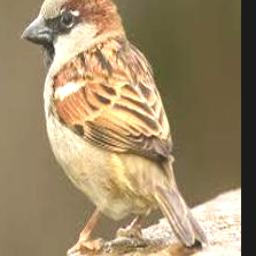Sparrow: (20, 0, 208, 253)
